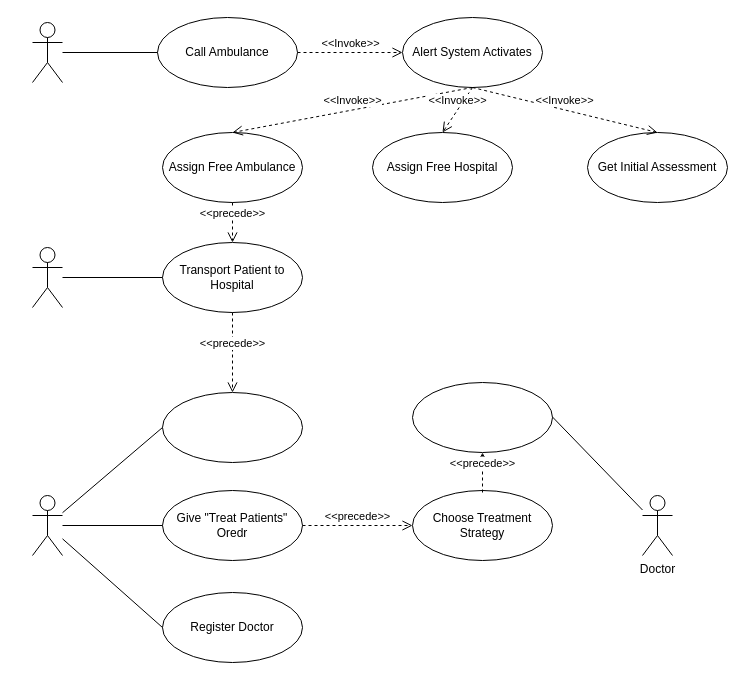
Some shapes in this 745 by 680 pixel diagram are drawn without their labels. The box of each missing label's shape, as (x1, y1, x2, y2) in pixels:
Ambulance: (32, 246, 62, 308)
Hospital: (32, 494, 62, 556)
Patient: (32, 22, 62, 82)
Register Patient: (162, 392, 302, 462)
Start the Treatment: (412, 382, 552, 452)
